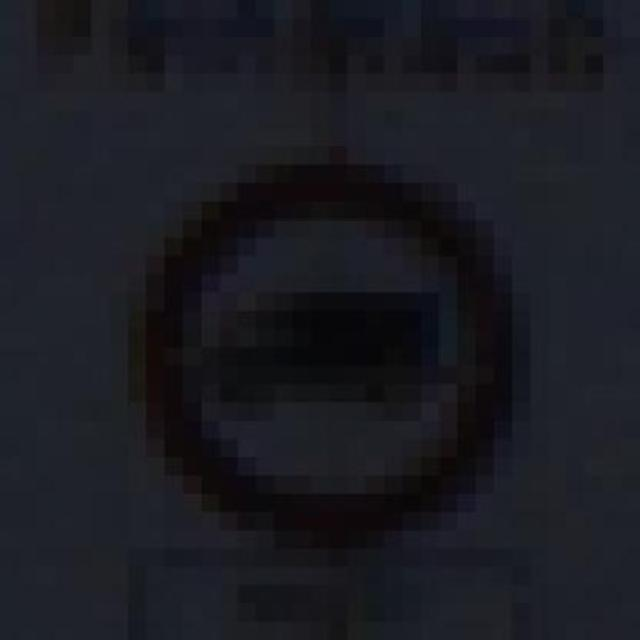Truck traffic is prohibited: (110, 128, 567, 568)
